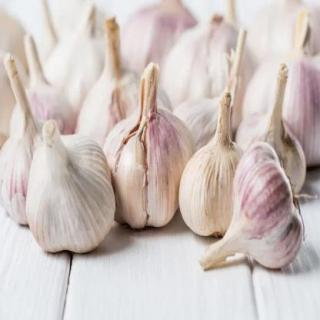Bawang Putih: (102, 109, 198, 230), (27, 134, 117, 256), (233, 143, 304, 270), (181, 140, 247, 237)
